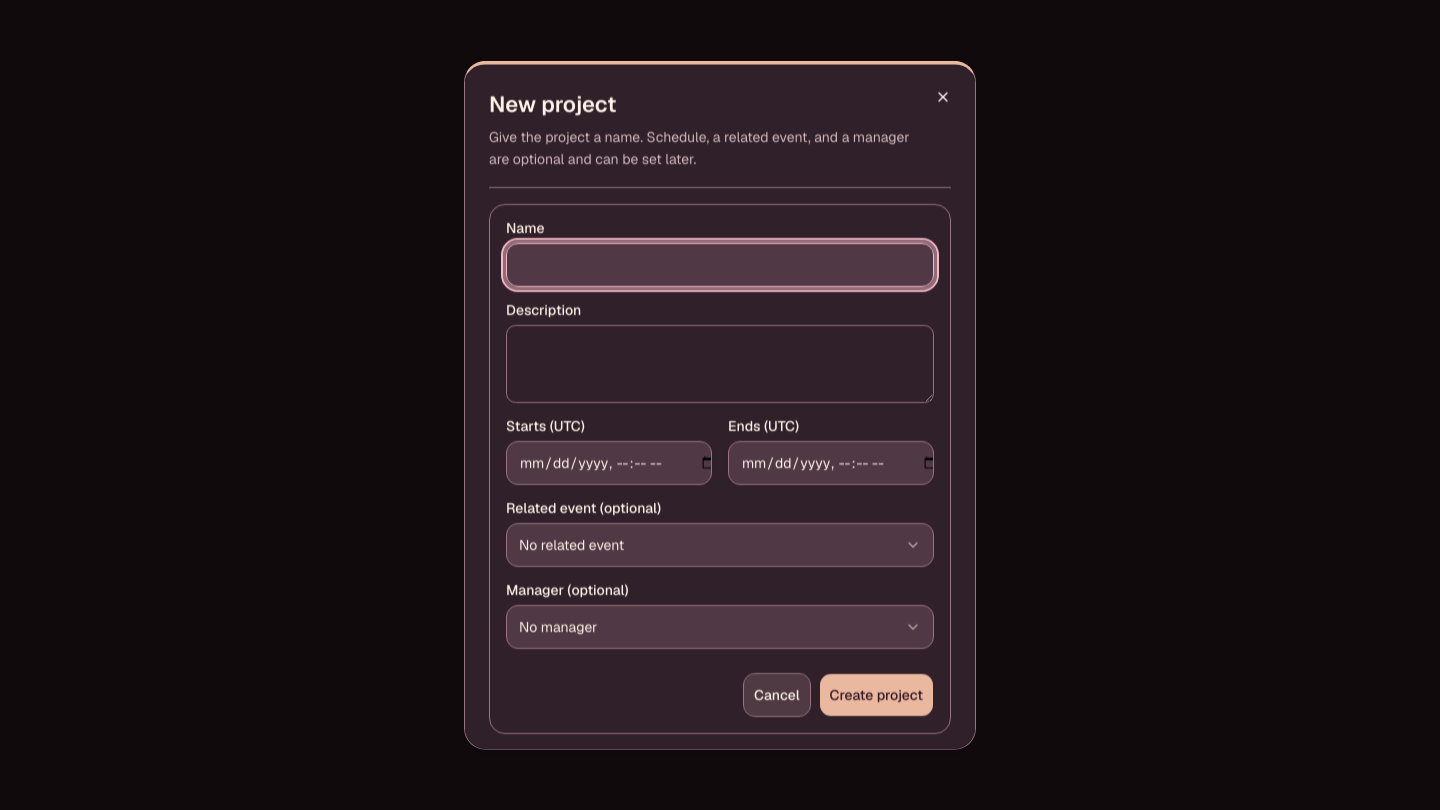
it: CreateProjectDialog › keeps the dialog open and shows a message when the create fails
The image size is (1440, 810).
Type "Try Again" into the field labelled "Name" at (720,264), box 506,242 -> 934,286
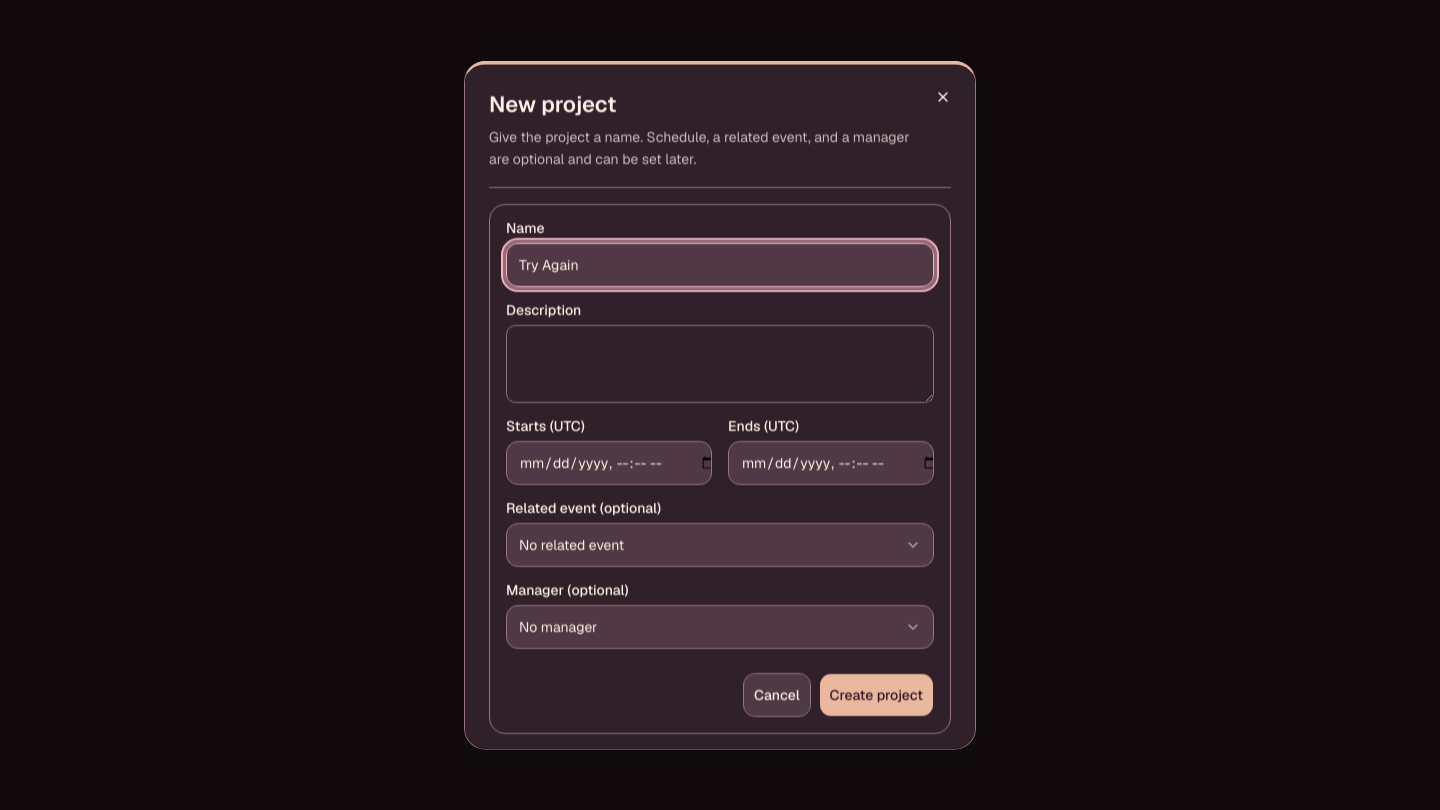
Click the button "Create project" at (876,694), box 819,672 -> 934,716
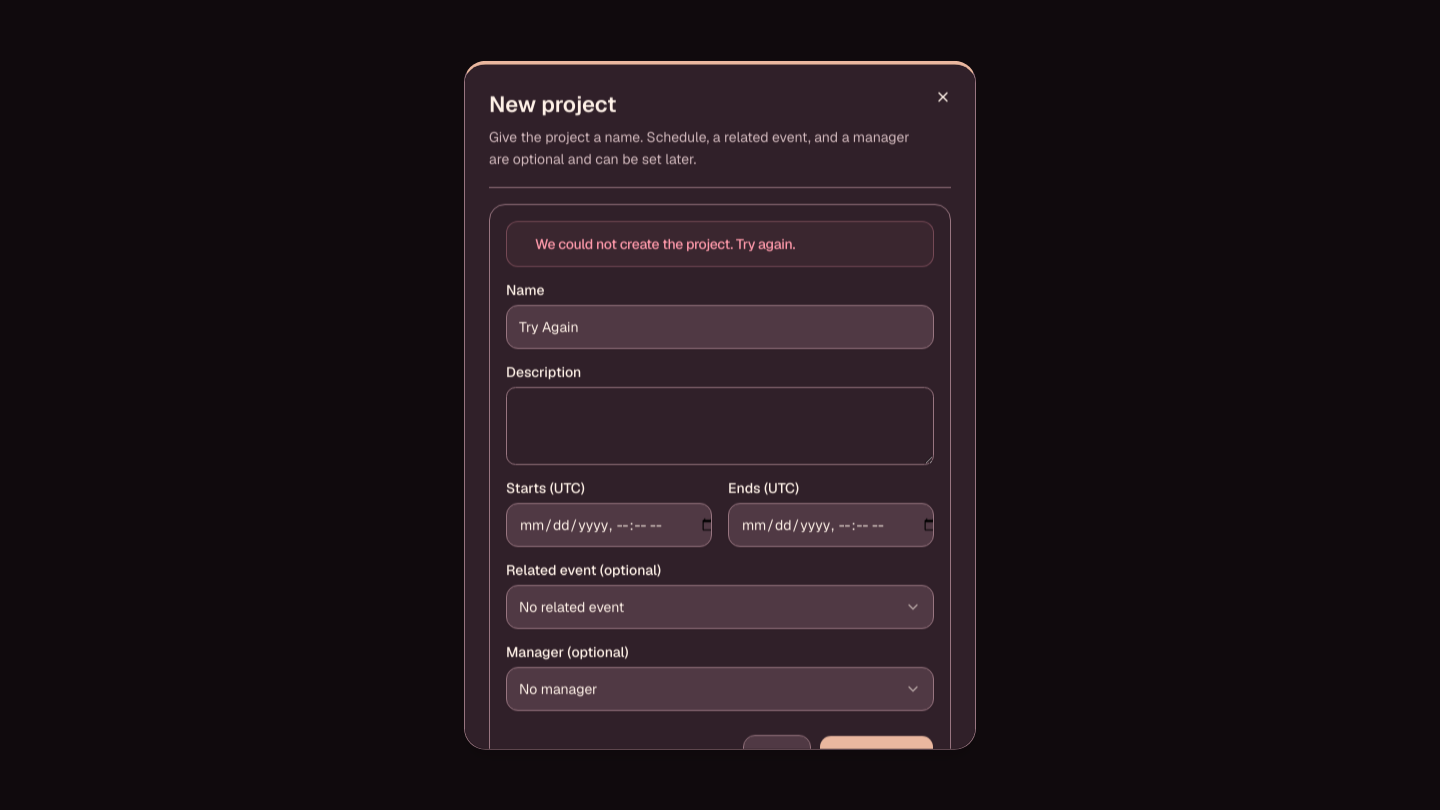
Now the text "We could not create the project. Try again." is shown, box 535,234 -> 795,252
